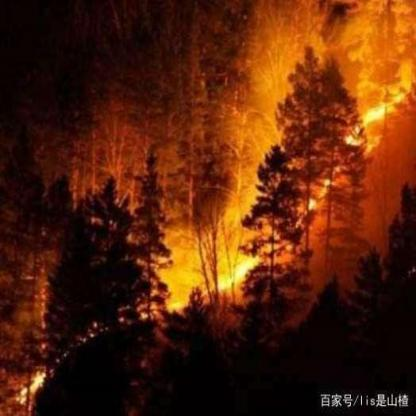fire: (170, 248, 280, 306), (342, 75, 411, 149), (290, 145, 342, 237), (19, 357, 50, 408)
